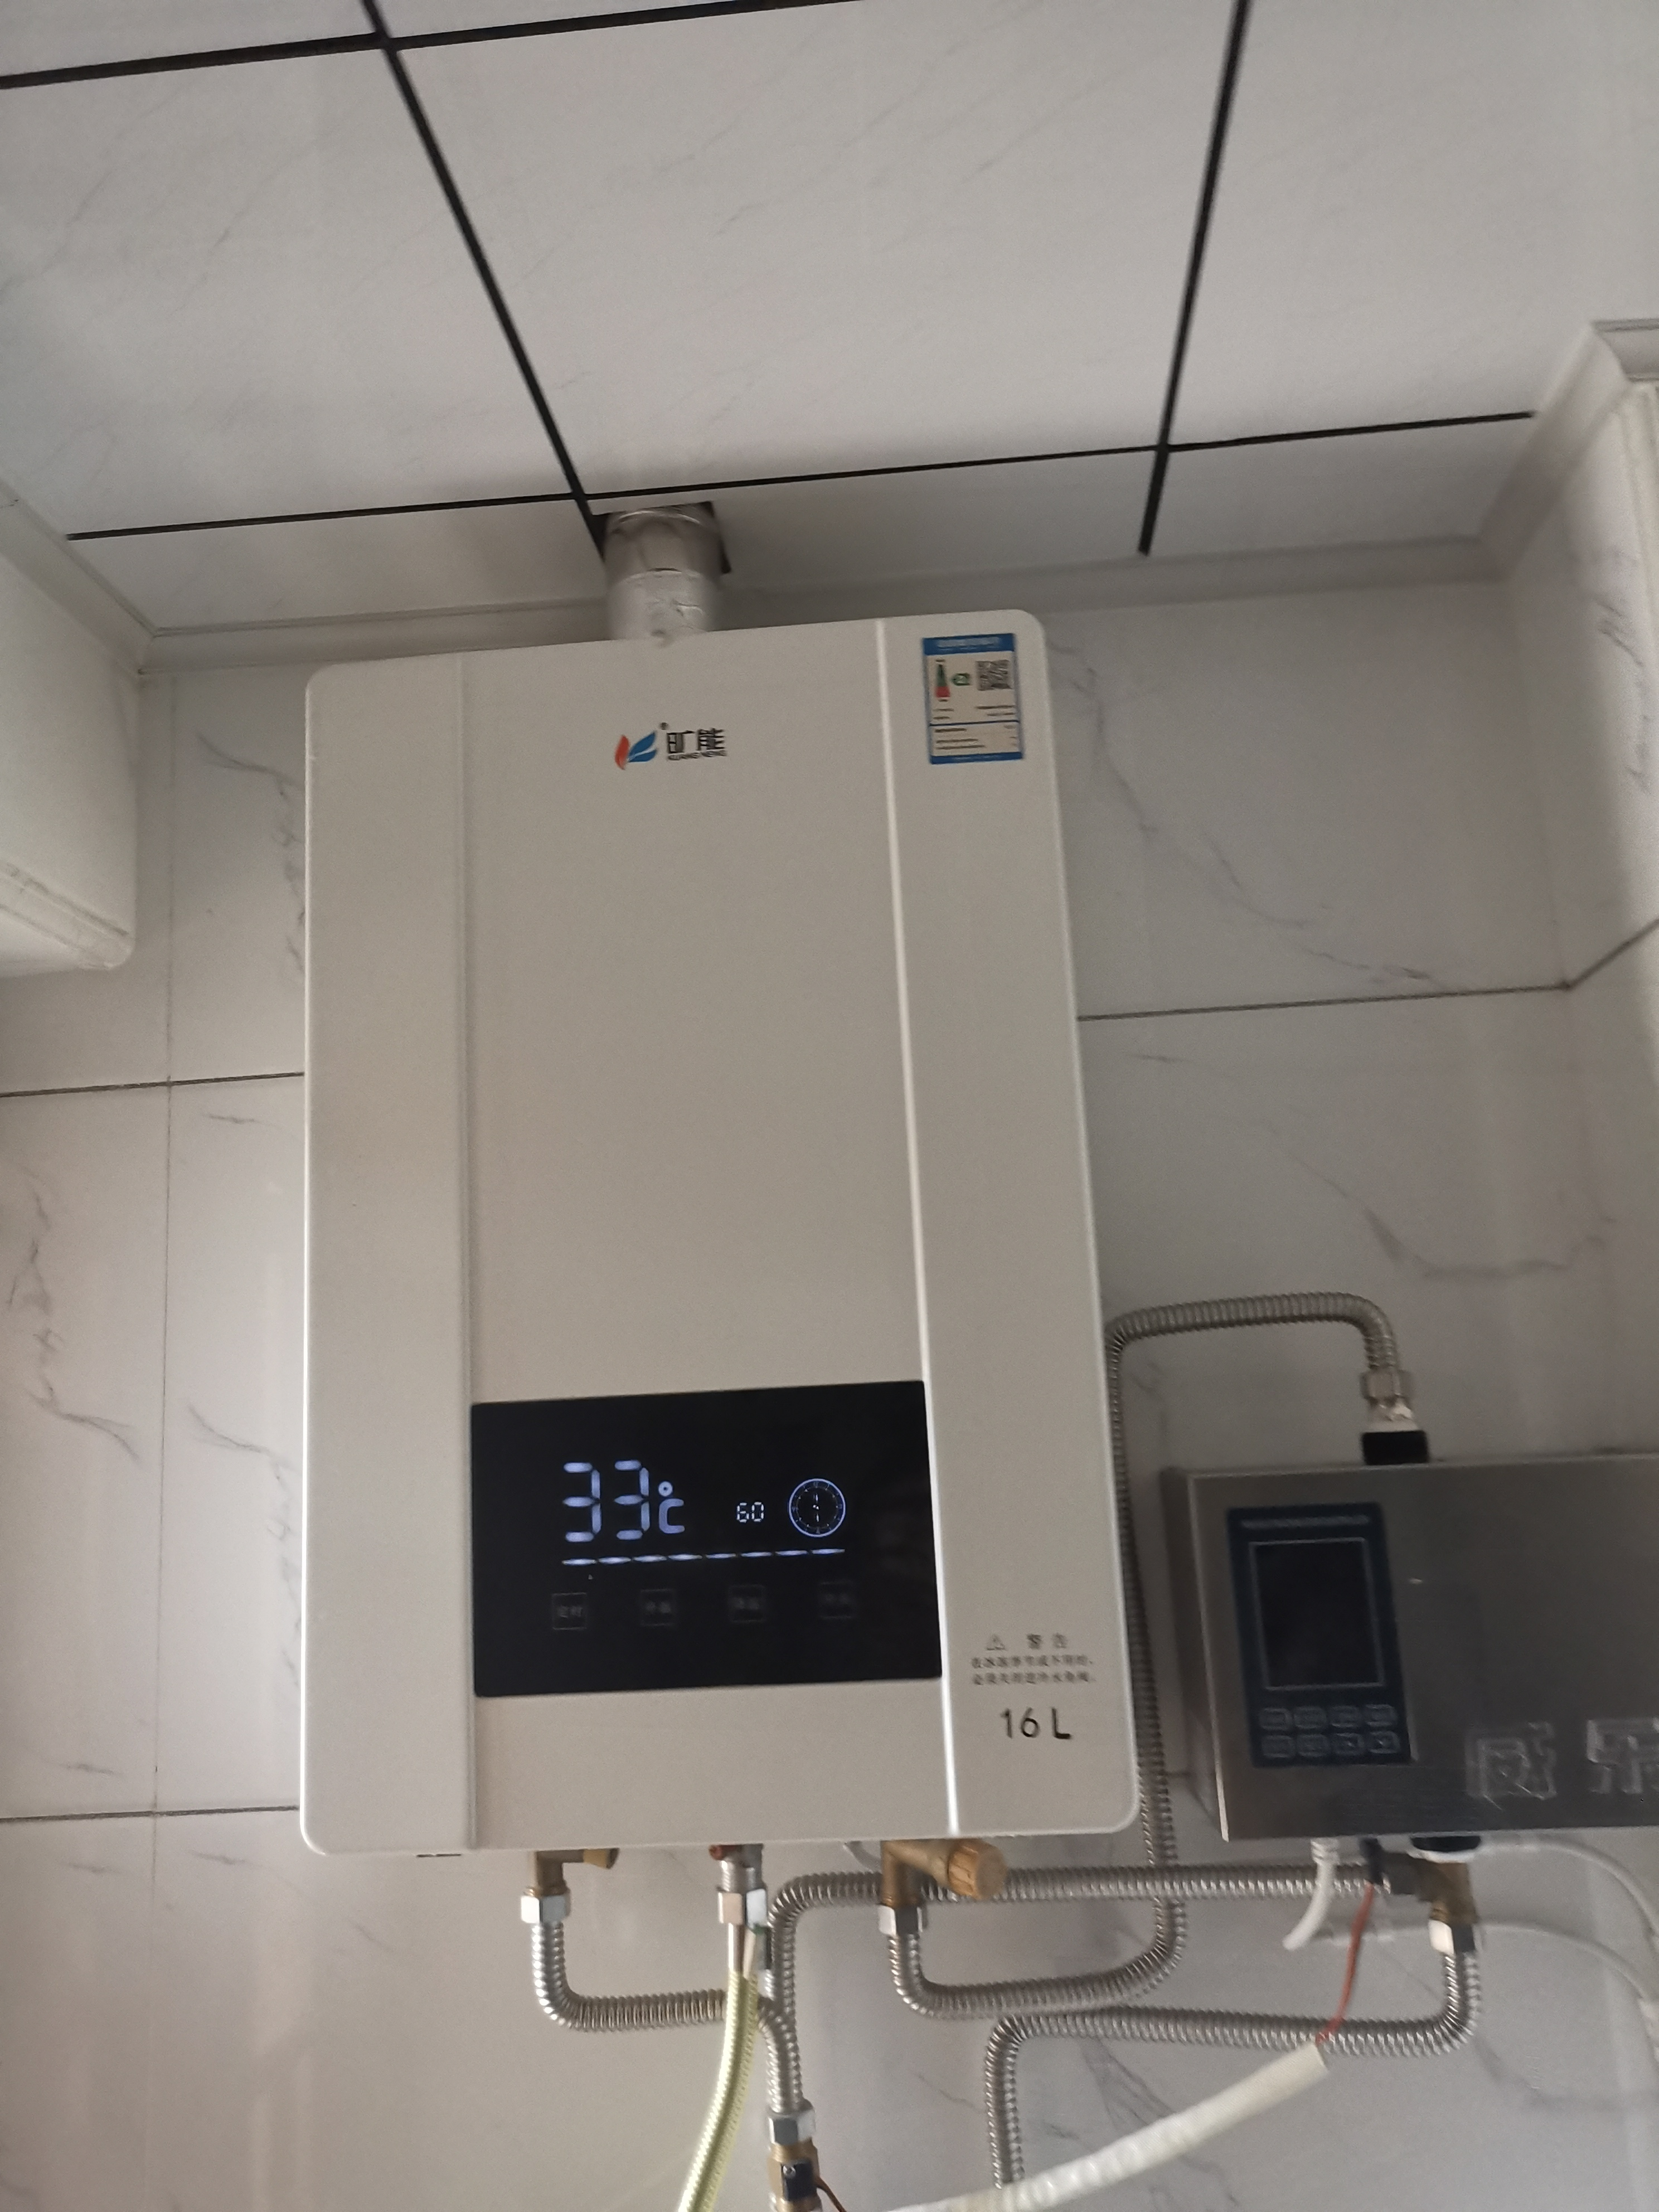loudou: (596, 719, 744, 773)
